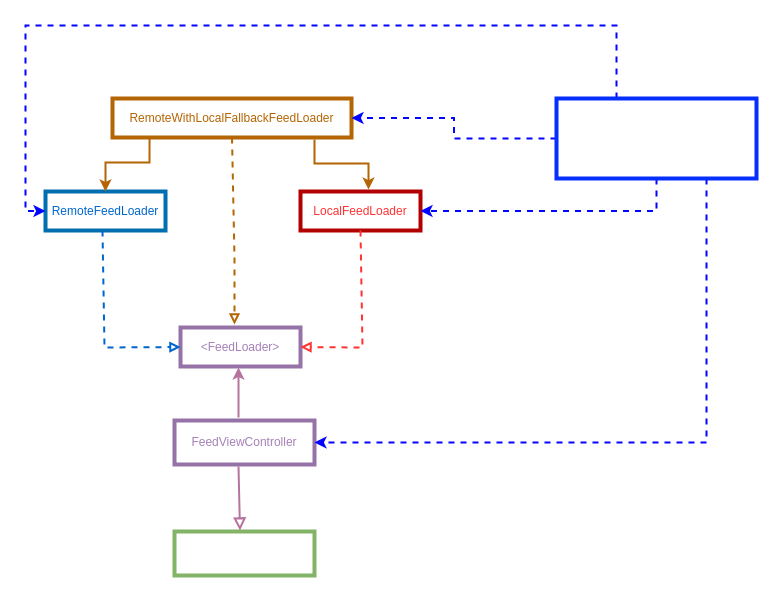
The diagram is 775 pixels wide and 594 high, and some of its shapes have lost their labels. Here are the shapes that lost their labels. From the top down, the box of each, then its label:
(554, 96, 758, 180): Feed Assembler/Builder/Factory
(172, 529, 316, 577): UIViewController
